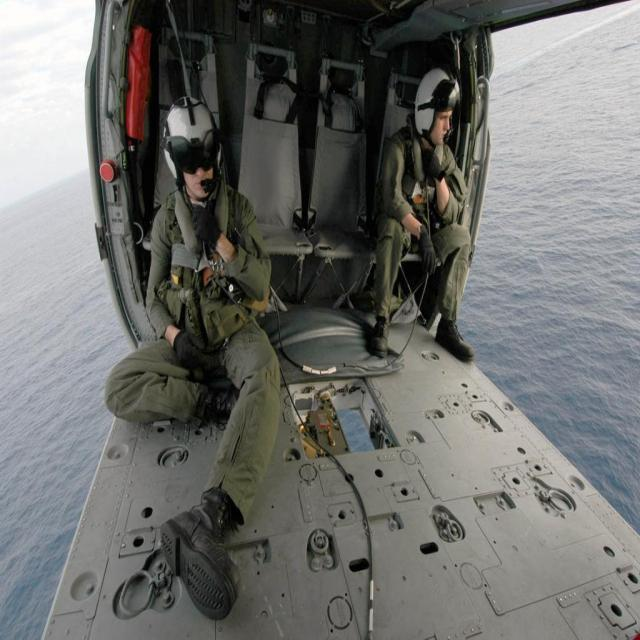nomask: (172, 138, 222, 203), (420, 82, 458, 145)
